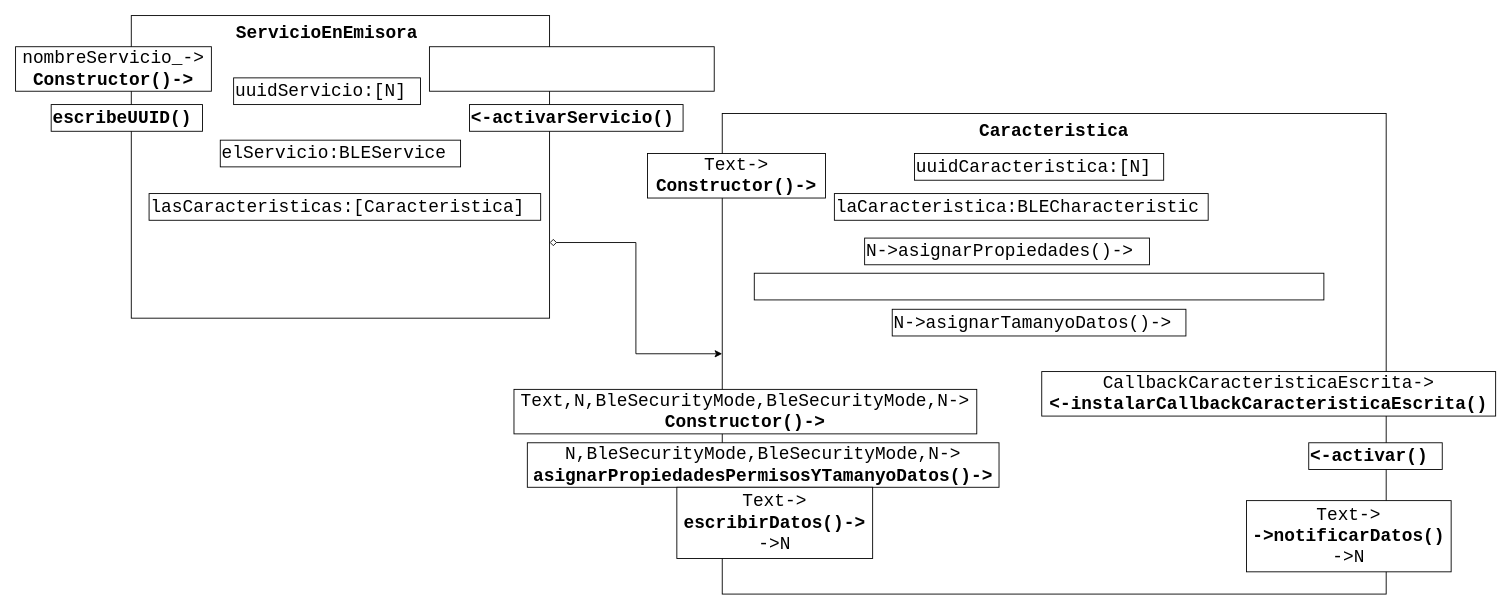
Some shapes in this 1511 by 610 pixel diagram are drawn without their labels. Here are the shapes that lost their labels. From the top down, the centre of each, then its label:
the point at 571,68: Caracteristica-> <-anyadirCaracteristica()
the point at 1038,286: BleSecurityMode,BleSecurityMode->asignarPermisos()->
